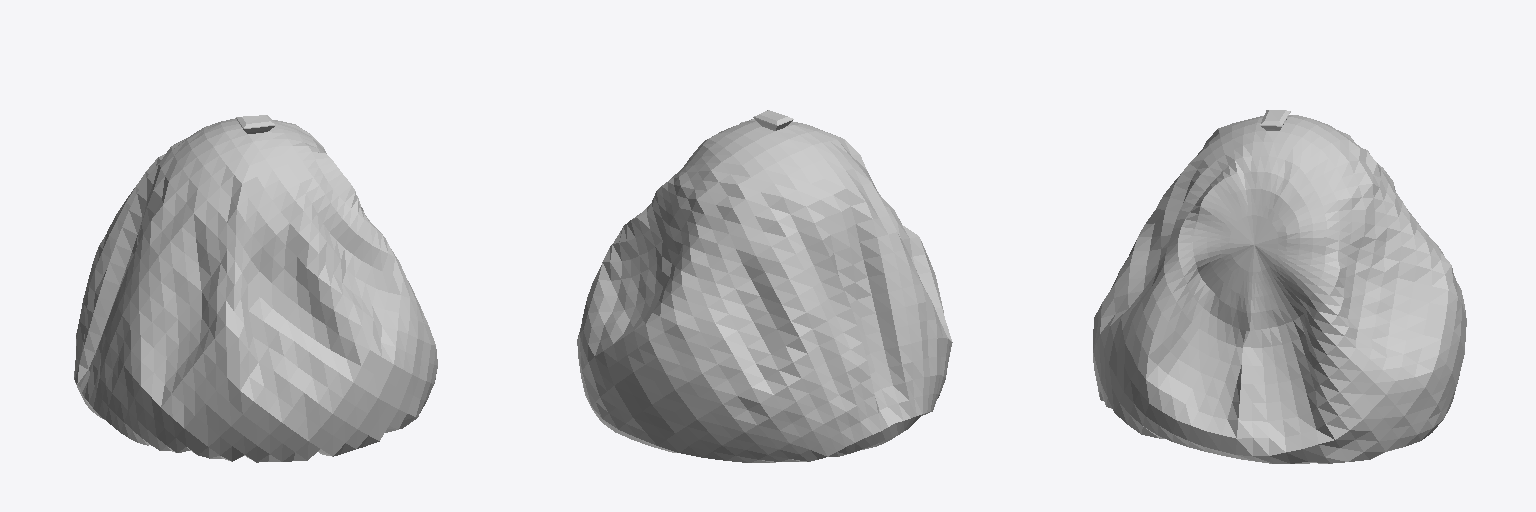
File: TrashBag1.obj
The picture shows the model from 3 angles: view 1: azimuth 30°, elevation 25°; view 2: azimuth 150°, elevation 25°; view 3: azimuth 270°, elevation 25°; orthographic projection.
Visible parts, largest first — view 1: Sphere; view 2: Sphere; view 3: Sphere.
Boxes of the visible parts, box(x1,y1,x2,y2) form: Sphere: box(74, 115, 437, 462); Sphere: box(577, 110, 952, 462); Sphere: box(1093, 110, 1466, 463).
Bounding box in the file's own units: 1.92 × 1.62 × 1.96.